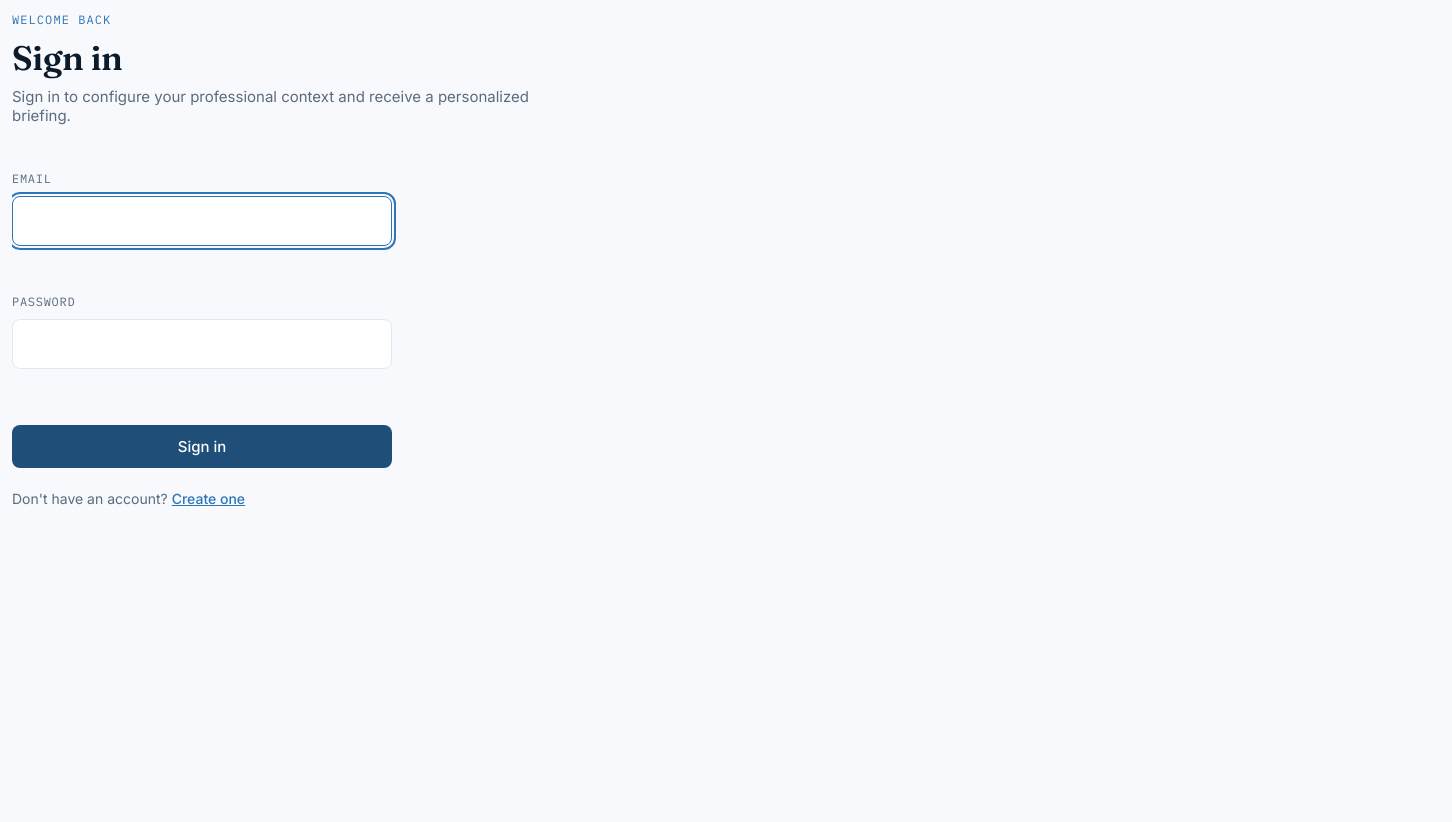
Test: Login page › displays the backend's real error message on failed login, without crashing
Type "alice@nexus.dev" into the field labelled "Email" at (202, 221), box [12, 196, 392, 246]
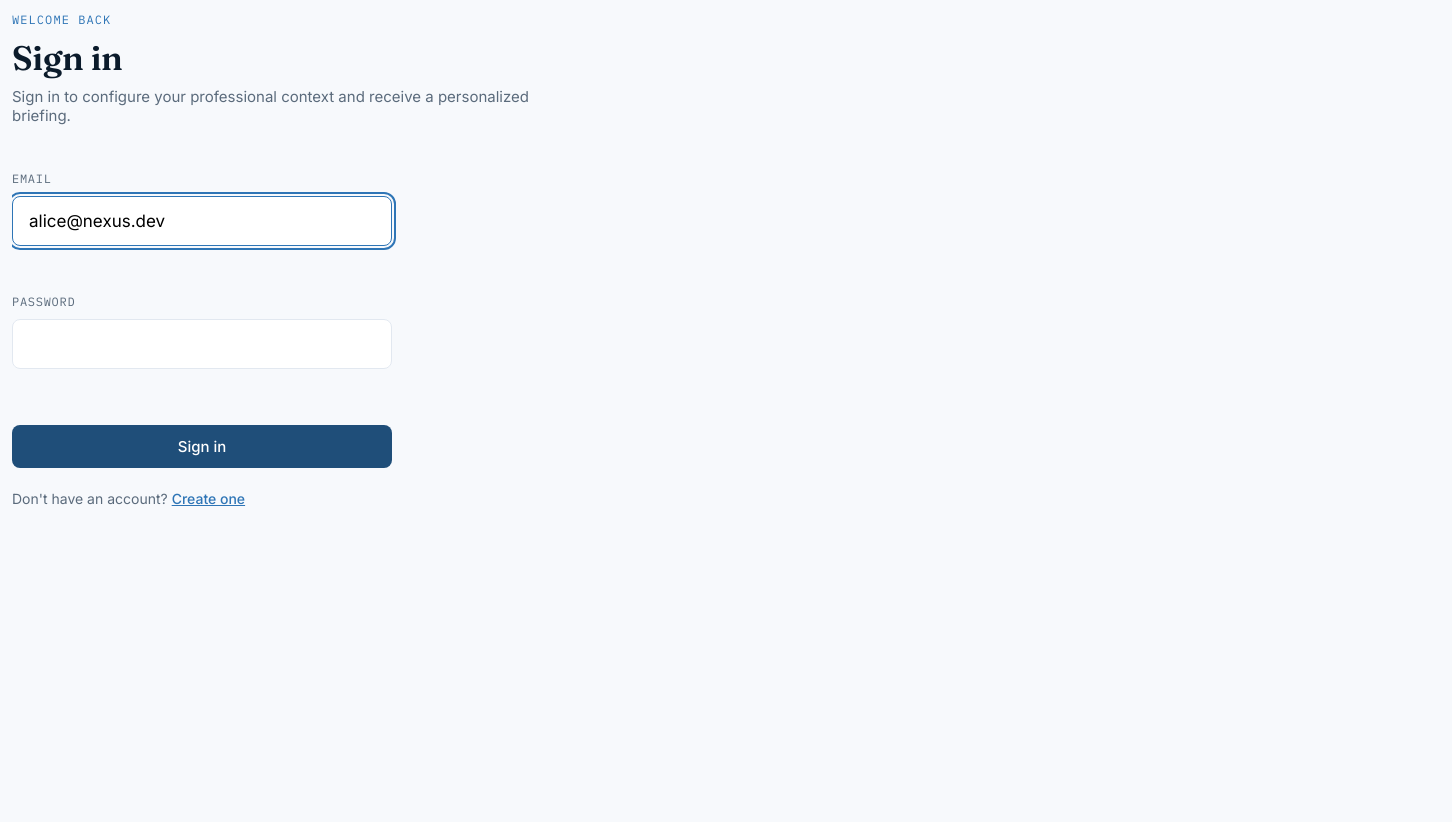
Type "wrongpassword" into the password field labelled "Password" at (202, 344), box [12, 319, 392, 369]
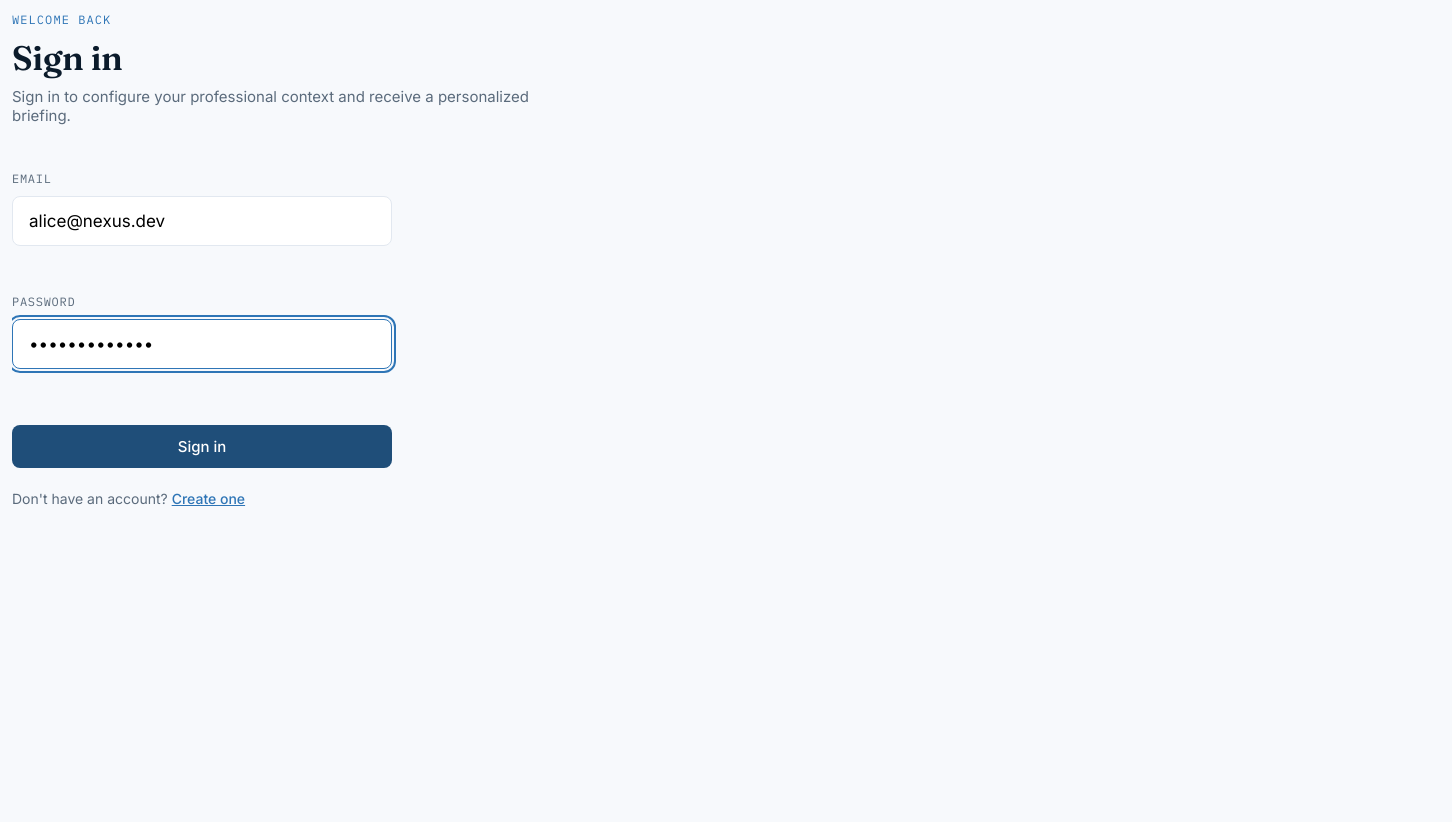
Click the button "Sign in" at (202, 446), box [12, 425, 392, 468]
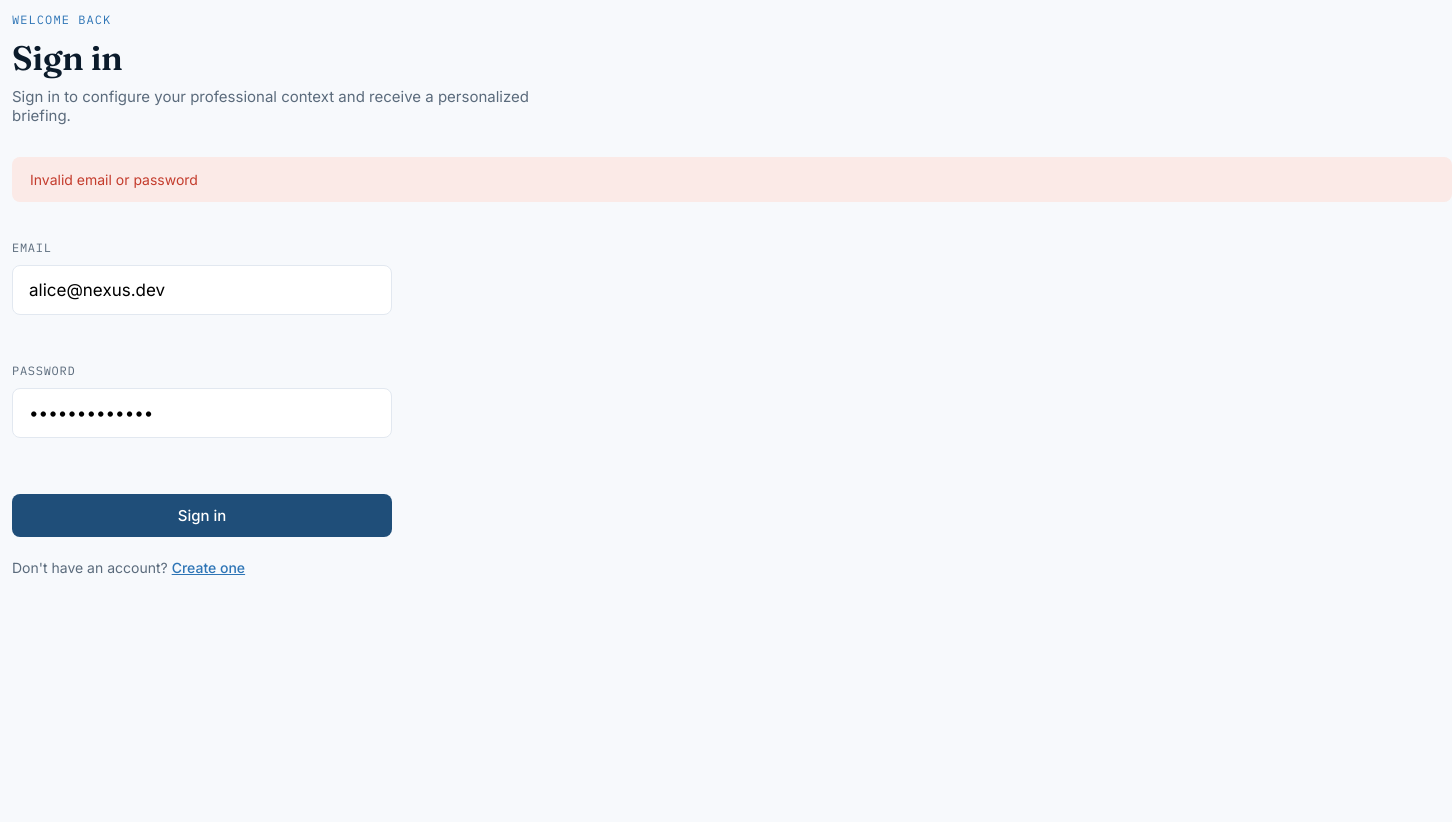
Expected: the text "Invalid email or password" is shown, [12, 157, 1451, 202]
